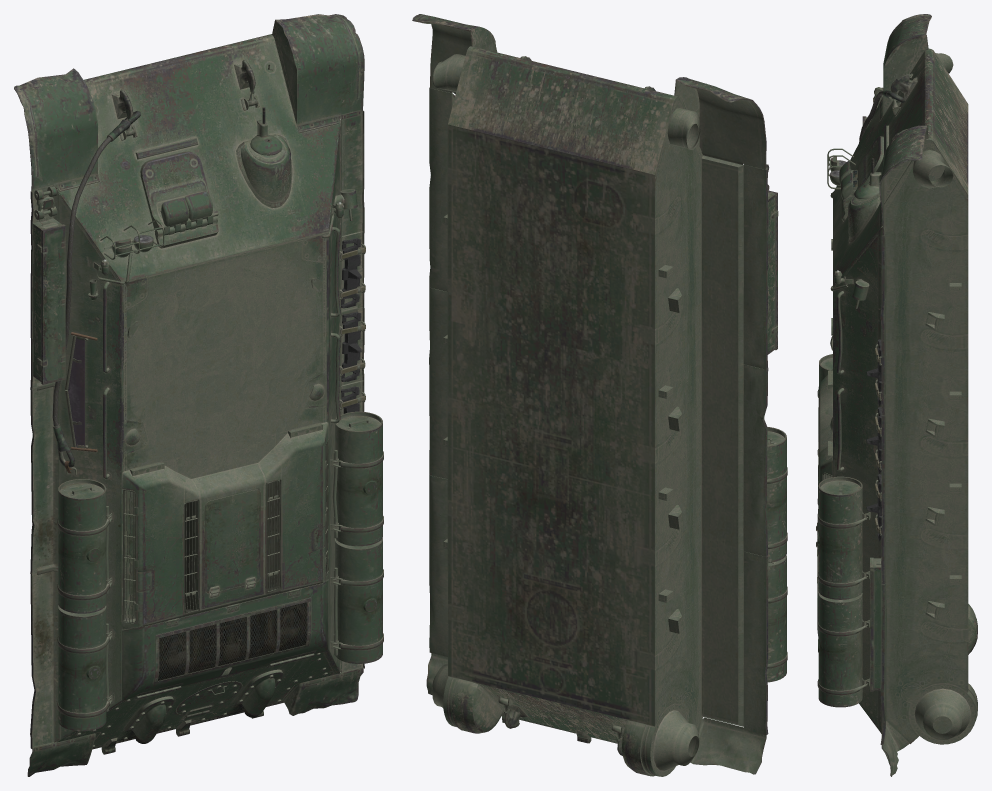
The model's file is Hull.glb.
The picture shows the model from 3 angles, left to right: view 1: azimuth 30°, elevation 25°; view 2: azimuth 150°, elevation 25°; view 3: azimuth 270°, elevation 25°; orthographic projection. The views are drawn at different scales.
Visible parts, largest first — view 1: set_0_group_0; view 2: set_0_group_0; view 3: set_0_group_0.
Boxes of the visible parts, x1,y1,x2,y2 form: set_0_group_0: (14,14,383,776); set_0_group_0: (412,14,787,776); set_0_group_0: (816,14,977,776).
Size of the model in its own units: 3.02 by 5.92 by 1.39.
Materials: 1 (1 with a texture image).
